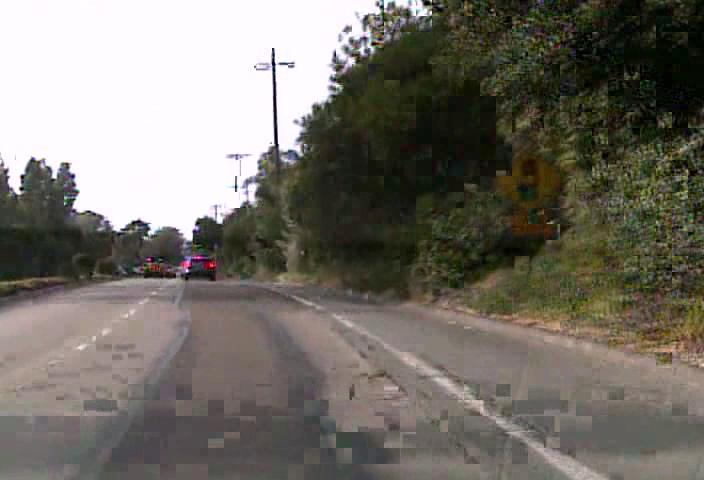signalAhead: (490, 148, 564, 213)
